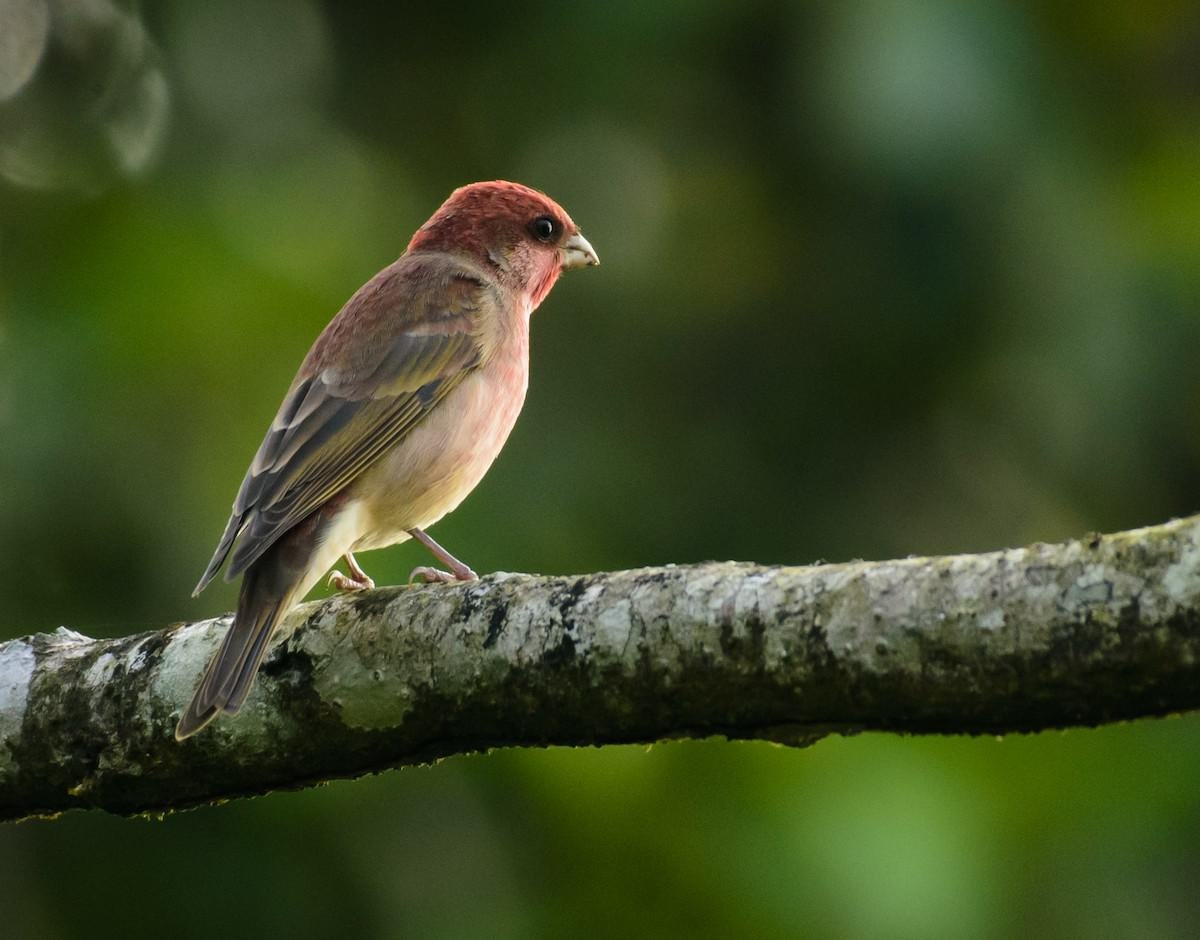rosefinch: (224, 200, 608, 623)
